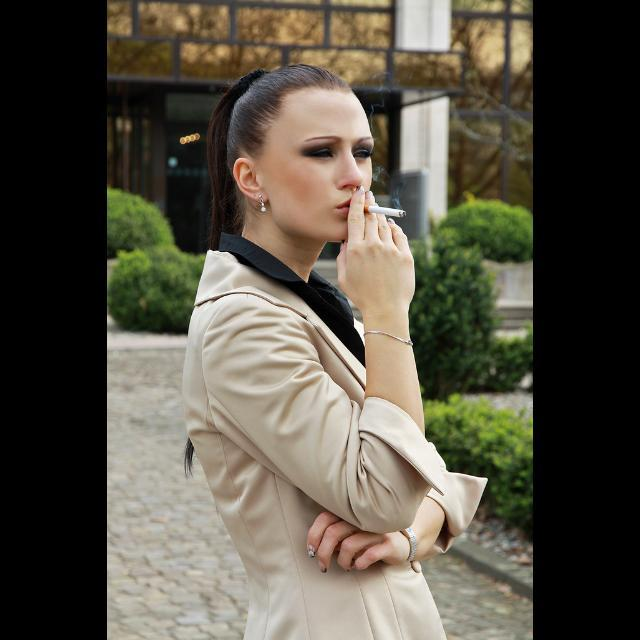rokok: (358, 200, 409, 224)
